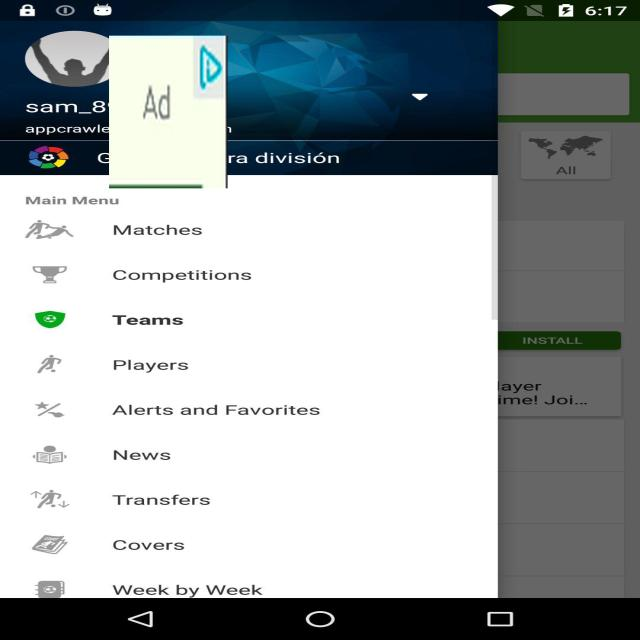sneaking: (109, 36, 228, 188)
